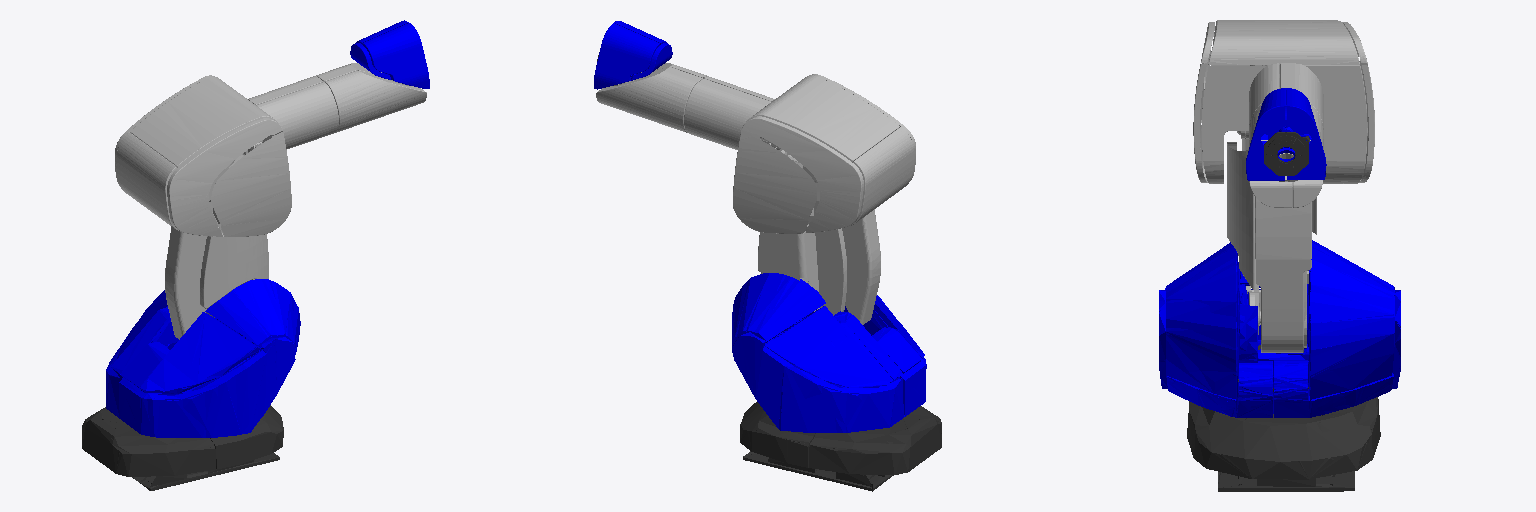
URDF robot description (aura):
<?xml version="1.0" encoding="utf-8"?>
<!-- =================================================================================== -->
<!-- |    This document was autogenerated by xacro from [local-path]/Documents/GitHub/penelope_ws/src/COMAU_ROS/comau_experimental_ws/comau_description/aura_description/robots/aura_robot.urdf.xacro | -->
<!-- |    EDITING THIS FILE BY HAND IS NOT RECOMMENDED                                 | -->
<!-- =================================================================================== -->
<robot name="aura">
  <!-- 
    Author: LMS
   -->
  <gazebo>
    <plugin filename="libgazebo_ros_control.so" name="ros_control">
      <controlPeriod>0.001</controlPeriod>
    </plugin>
  </gazebo>
  <transmission name="joint_1_trans">
    <type>transmission_interface/SimpleTransmission</type>
    <joint name="joint_1">
      <hardwareInterface>hardware_interface/PositionJointInterface</hardwareInterface>
    </joint>
    <actuator name="joint_1_motor">
      <mechanicalReduction>1</mechanicalReduction>
    </actuator>
  </transmission>
  <transmission name="joint_2_trans">
    <type>transmission_interface/SimpleTransmission</type>
    <joint name="joint_2">
      <hardwareInterface>hardware_interface/PositionJointInterface</hardwareInterface>
    </joint>
    <actuator name="joint_2_motor">
      <mechanicalReduction>1</mechanicalReduction>
    </actuator>
  </transmission>
  <transmission name="joint_3_trans">
    <type>transmission_interface/SimpleTransmission</type>
    <joint name="joint_3">
      <hardwareInterface>hardware_interface/PositionJointInterface</hardwareInterface>
    </joint>
    <actuator name="joint_3_motor">
      <mechanicalReduction>1</mechanicalReduction>
    </actuator>
  </transmission>
  <transmission name="joint_4_trans">
    <type>transmission_interface/SimpleTransmission</type>
    <joint name="joint_4">
      <hardwareInterface>hardware_interface/PositionJointInterface</hardwareInterface>
    </joint>
    <actuator name="joint_4_motor">
      <mechanicalReduction>1</mechanicalReduction>
    </actuator>
  </transmission>
  <transmission name="joint_5_trans">
    <type>transmission_interface/SimpleTransmission</type>
    <joint name="joint_5">
      <hardwareInterface>hardware_interface/PositionJointInterface</hardwareInterface>
    </joint>
    <actuator name="joint_5_motor">
      <mechanicalReduction>1</mechanicalReduction>
    </actuator>
  </transmission>
  <transmission name="joint_6_trans">
    <type>transmission_interface/SimpleTransmission</type>
    <joint name="joint_6">
      <hardwareInterface>hardware_interface/PositionJointInterface</hardwareInterface>
    </joint>
    <actuator name="joint_6_motor">
      <mechanicalReduction>1</mechanicalReduction>
    </actuator>
  </transmission>
  <!--gazebo reference="${prefix}aura_footprint">
      <static>true</static>
    </gazebo-->
  <gazebo reference="base_link">
    <static>true</static>
    <gravity>false</gravity>
    <selfCollide>false</selfCollide>
    <material>Gazebo/DarkGrey</material>
  </gazebo>
  <gazebo reference="link_1">
    <gravity>false</gravity>
    <selfCollide>false</selfCollide>
    <material>Gazebo/Blue</material>
  </gazebo>
  <gazebo reference="link_2">
    <gravity>false</gravity>
    <selfCollide>false</selfCollide>
    <material>Gazebo/Grey</material>
  </gazebo>
  <gazebo reference="link_3">
    <gravity>false</gravity>
    <selfCollide>false</selfCollide>
    <material>Gazebo/Grey</material>
  </gazebo>
  <gazebo reference="link_3_virtual">
    <gravity>false</gravity>
    <selfCollide>false</selfCollide>
    <material>Gazebo/Grey</material>
  </gazebo>
  <gazebo reference="link_4">
    <gravity>false</gravity>
    <selfCollide>false</selfCollide>
    <material>Gazebo/Grey</material>
  </gazebo>
  <gazebo reference="link_5">
    <gravity>false</gravity>
    <selfCollide>false</selfCollide>
    <material>Gazebo/Blue</material>
  </gazebo>
  <gazebo reference="link_6">
    <gravity>false</gravity>
    <selfCollide>false</selfCollide>
    <material>Gazebo/Black</material>
  </gazebo>
  <link name="base_link">
    <inertial>
      <origin rpy="0 0 0" xyz="0.0190768727000594 -0.00273219739469353 0.224558520234347"/>
      <mass value="6.1430439187"/>
      <inertia ixx="28.5802635516256" ixy="0.00727927797804216" ixz="0.299680358784856" iyy="31.073773310292" iyz="0.0069437441373793" izz="56.3330921844227"/>
    </inertial>
    <visual>
      <origin rpy="0 0 0" xyz="0 0 0"/>
      <geometry>
        <mesh filename="package://aura_description/meshes/aura/viz/base_link.STL"/>
      </geometry>
      <material name="comau_dark_grey">
        <color rgba="0.25098 0.25098 0.25098 1"/>
      </material>
    </visual>
    <collision>
      <surface>
        <contact>
          <collide_bitmask>0x01</collide_bitmask>
        </contact>
      </surface>
      <origin rpy="0 0 0" xyz="0 0 0"/>
      <geometry>
        <mesh filename="package://aura_description/meshes/aura/col/base_link.STL"/>
      </geometry>
    </collision>
  </link>
  <link name="link_1">
    <inertial>
      <origin rpy="0 0 0" xyz="0.266373725873378 0.00385598734773701 0.381638394835449"/>
      <mass value="8.48522894702"/>
      <inertia ixx="49.3087902451513" ixy="0.86766706218942" ixz="-11.6355039302912" iyy="47.6784496847126" iyz="0.356500383449339" izz="50.5565394772442"/>
    </inertial>
    <visual>
      <origin rpy="0 0 0" xyz="0 0 0"/>
      <geometry>
        <mesh filename="package://aura_description/meshes/aura/viz/Axis-1.STL"/>
      </geometry>
      <material name="comau_blue">
        <color rgba="0 0 1 1"/>
      </material>
    </visual>
    <collision>
      <origin rpy="0 0 0" xyz="0 0 0"/>
      <surface>
        <contact>
          <collide_bitmask>0x10</collide_bitmask>
        </contact>
      </surface>
      <geometry>
        <mesh filename="package://aura_description/meshes/aura/col/Axis-1.STL"/>
      </geometry>
    </collision>
  </link>
  <link name="link_2">
    <inertial>
      <origin rpy="0 0 0" xyz="-0.130676544255706 -0.0799633110698596 0.420177344523501"/>
      <mass value="2.39125682402"/>
      <inertia ixx="29.0000847886552" ixy="-0.0137913581559178" ixz="-0.38050514193246" iyy="29.5862783708273" iyz="0.448920656507232" izz="3.35361301596861"/>
    </inertial>
    <visual>
      <origin rpy="0 0 0" xyz="0 0 0"/>
      <geometry>
        <mesh filename="package://aura_description/meshes/aura/viz/Axis-2.STL"/>
      </geometry>
      <material name="comau_grey">
        <color rgba="0.752941176470588 0.752941176470588 0.752941176470588 1"/>
      </material>
    </visual>
    <collision>
      <origin rpy="0 0 0" xyz="0 0 0"/>
      <surface>
        <contact>
          <collide_bitmask>0x01</collide_bitmask>
        </contact>
      </surface>
      <geometry>
        <mesh filename="package://aura_description/meshes/aura/col/Axis-2.STL"/>
      </geometry>
    </collision>
  </link>
  <link name="link_3">
    <inertial>
      <origin rpy="0 0 0" xyz="-0.0729518648260472 0.0292430153422261 0.190940156994843"/>
      <mass value="3.11238256143"/>
      <inertia ixx="11.54793486791" ixy="0.0389853984707502" ixz="-0.961629773567723" iyy="8.37635262458699" iyz="-0.92294880100034" izz="9.81126840885521"/>
    </inertial>
    <visual>
      <origin rpy="0 0 0" xyz="0 0 0"/>
      <geometry>
        <mesh filename="package://aura_description/meshes/aura/viz/Axis-3.STL"/>
      </geometry>
      <material name="comau_grey">
        <color rgba="0.752941176470588 0.752941176470588 0.752941176470588 1"/>
      </material>
    </visual>
    <collision>
      <origin rpy="0 0 0" xyz="0 0 0"/>
      <surface>
        <contact>
          <collide_bitmask>0x01</collide_bitmask>
        </contact>
      </surface>
      <geometry>
        <mesh filename="package://aura_description/meshes/aura/col/Axis-3.STL"/>
      </geometry>
    </collision>
  </link>
  <link name="link_3_virtual">
    <inertial>
      <origin rpy="0 0 0" xyz="0 0 0"/>
      <mass value="0.001"/>
      <inertia ixx="0.0001" ixy="0" ixz="0" iyy="0.0001" iyz="0" izz="0.0001"/>
    </inertial>
  </link>
  <link name="link_4">
    <inertial>
      <origin rpy="0 0 0" xyz="0.812887178114926 0.000362663375719755 -0.00614579685957262"/>
      <mass value="1.36485755345"/>
      <inertia ixx="1.44924828438087" ixy="-0.0010420322322568" ixz="0.182154802830561" iyy="23.7605547929294" iyz="0.0398572873015" izz="23.7018207836833"/>
    </inertial>
    <visual>
      <origin rpy="0 0 0" xyz="0 0 0"/>
      <geometry>
        <mesh filename="package://aura_description/meshes/aura/viz/Axis-4.STL"/>
      </geometry>
      <material name="comau_grey">
        <color rgba="0.752941176470588 0.752941176470588 0.752941176470588 1"/>
      </material>
    </visual>
    <collision>
      <origin rpy="0 0 0" xyz="0 0 0"/>
      <surface>
        <contact>
          <collide_bitmask>0x01</collide_bitmask>
        </contact>
      </surface>
      <geometry>
        <mesh filename="package://aura_description/meshes/aura/col/Axis-4.STL"/>
      </geometry>
    </collision>
  </link>
  <link name="link_5">
    <inertial>
      <origin rpy="0 0 0" xyz="0.0568185601062883 0.000539823436256374 0.13348534058869"/>
      <mass value="0.386467341461"/>
      <inertia ixx="0.470449491695078" ixy="-0.000517824470923669" ixz="0.0313276463840993" iyy="0.615934928772394" iyz="-0.000786523511302322" izz="0.418403890019268"/>
    </inertial>
    <visual>
      <origin rpy="0 0 0" xyz="0 0 0"/>
      <geometry>
        <mesh filename="package://aura_description/meshes/aura/viz/Axis-5.STL"/>
      </geometry>
      <material name="comau_blue">
        <color rgba="0 0 1 1"/>
      </material>
    </visual>
    <collision>
      <origin rpy="0 0 0" xyz="0 0 0"/>
      <surface>
        <contact>
          <collide_bitmask>0x10</collide_bitmask>
        </contact>
      </surface>
      <geometry>
        <mesh filename="package://aura_description/meshes/aura/col/Axis-5.STL"/>
      </geometry>
    </collision>
  </link>
  <link name="link_6">
    <inertial>
      <origin rpy="0 0 0" xyz="0.0242228852262389 0.00139203375363176 0.000729669966204494"/>
      <mass value="0.0792214111422"/>
      <inertia ixx="0.0703548868386956" ixy="0.000116981956754875" ixz="9.17709285092661E-05" iyy="0.0355404313512897" iyz="-0.000841076901867076" izz="0.0361480651851593"/>
    </inertial>
    <visual>
      <origin rpy="0 0 0" xyz="0 0 0"/>
      <geometry>
        <mesh filename="package://aura_description/meshes/aura/viz/Axis-6.STL"/>
      </geometry>
      <material name="comau_dark_grey">
        <color rgba="0.25098 0.25098 0.25098 1"/>
      </material>
    </visual>
    <collision>
      <origin rpy="0 0 0" xyz="0 0 0"/>
      <surface>
        <contact>
          <collide_bitmask>0x01</collide_bitmask>
        </contact>
      </surface>
      <geometry>
        <mesh filename="package://aura_description/meshes/aura/col/Axis-6.STL"/>
      </geometry>
    </collision>
  </link>
  <link name="ee_link"/>
  <!-- joints: main serial chain -->
  <joint name="joint_1" type="revolute">
    <origin rpy="0 0 0" xyz="0 0 0.466"/>
    <parent link="base_link"/>
    <child link="link_1"/>
    <axis xyz="0 0 -1"/>
    <limit effort="6300.0" lower="-3.14" upper="3.14" velocity="2.0"/>
    <dynamics damping="0.02" friction="0.0"/>
  </joint>
  <joint name="joint_2" type="revolute">
    <origin rpy="0 0 0" xyz="0.4 0 0.504"/>
    <parent link="link_1"/>
    <child link="link_2"/>
    <axis xyz="0 1 0"/>
    <limit effort="3300.0" lower="-0.34" upper="1.48" velocity="2.0"/>
    <dynamics damping="0.02" friction="0.0"/>
  </joint>
  <joint name="joint_2m" type="fixed">
    <origin rpy="0 -1.57079632679 0" xyz="0 0 1.175"/>
    <parent link="link_2"/>
    <child link="link_3_virtual"/>
  </joint>
  <joint name="joint_3" type="revolute">
    <origin rpy="0 0 0" xyz="0 0 0"/>
    <parent link="link_3_virtual"/>
    <child link="link_3"/>
    <axis xyz="0 -1 0"/>
    <!--0.34, 0.88 upper lower -0.69-->
    <!--0.69 0.88 -->
    <limit effort="1000.0" lower="-2.2607" upper="-0.69079" velocity="2.0"/>
    <dynamics damping="0.02" friction="0.0"/>
  </joint>
  <joint name="joint_4" type="revolute">
    <origin rpy="0 0 0" xyz="0.105 0 0.249999999999999"/>
    <parent link="link_3"/>
    <child link="link_4"/>
    <axis xyz="-1 0 0"/>
    <limit effort="60.0" lower="-3.14" upper="3.14" velocity="2.0"/>
    <dynamics damping="0.02" friction="0.0"/>
  </joint>
  <joint name="joint_5" type="revolute">
    <origin rpy="0 0 0" xyz="1.279 0 0.029358"/>
    <parent link="link_4"/>
    <child link="link_5"/>
    <axis xyz="0.5 0 0.86603"/>
    <limit effort="60.0" lower="-3.14" upper="3.14" velocity="2.0"/>
    <dynamics damping="0.02" friction="0.0"/>
  </joint>
  <joint name="joint_6" type="revolute">
    <origin rpy="0 0 0" xyz="0.16105 0 0.10055"/>
    <parent link="link_5"/>
    <child link="link_6"/>
    <axis xyz="-1 0 0"/>
    <limit effort="60.0" lower="-3.49" upper="3.49" velocity="2.0"/>
    <dynamics damping="0.02" friction="0.0"/>
  </joint>
  <joint name="fixed_ee_joint" type="fixed">
    <origin rpy="0 0 0" xyz="0.0 0 0.0"/>
    <parent link="link_6"/>
    <child link="ee_link"/>
  </joint>
  <link name="world"/>
  <joint name="world_joint" type="fixed">
    <parent link="world"/>
    <child link="base_link"/>
    <origin rpy="0 0 0" xyz="0 0 0"/>
  </joint>
</robot>

--- What the picture shows (computed from the rendered views, not written in the file) ---
3 views of the same robot in one strip: view 1: azimuth 30°, elevation 25°; view 2: azimuth 150°, elevation 25°; view 3: azimuth 270°, elevation 25° (orthographic).
Model aura with 10 links and 9 joints (6 revolute, 3 fixed), rooted at world, posed joints at zero except 1 at the middle of their limits (joint_3 = -1.48).
Visible links, largest first — view 1: link_1, link_3, base_link, link_4, link_2, link_5; view 2: link_1, link_3, base_link, link_2, link_4, link_5; view 3: link_1, link_3, base_link, link_2, link_4, link_5, link_6.
Link boxes in pixels (x1,y1,x2,y2): link_1: [106, 279, 300, 437]; link_3: [115, 75, 291, 236]; base_link: [82, 405, 283, 490]; link_4: [248, 63, 426, 152]; link_2: [165, 200, 268, 339]; link_5: [350, 20, 429, 88]; link_1: [732, 273, 926, 432]; link_3: [733, 74, 915, 233]; base_link: [740, 402, 941, 491]; link_2: [758, 183, 880, 324]; link_4: [596, 63, 774, 149]; link_5: [594, 21, 672, 89]; link_1: [1159, 240, 1400, 417]; link_3: [1193, 20, 1374, 183]; base_link: [1187, 345, 1380, 491]; link_2: [1227, 139, 1316, 352]; link_4: [1249, 63, 1323, 207]; link_5: [1246, 88, 1326, 180]; link_6: [1264, 132, 1309, 175].
Bounding box of the posed robot: 2.6 × 1.33 × 2.94 m (x, y, z).
Meshes: 7 distinct files referenced, 7 mesh visuals loaded (7 binary STL).
